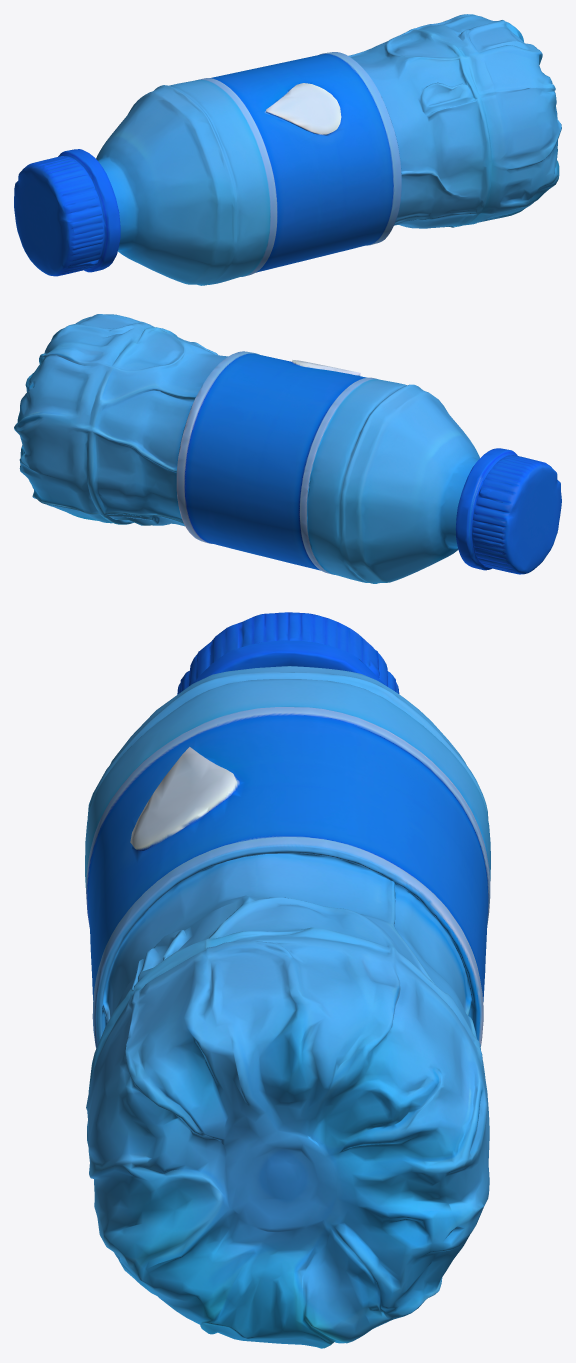
The model's file is waterbottle_v3.glb.
The picture shows the model from 3 angles, top to bottom: view 1: azimuth 30°, elevation 25°; view 2: azimuth 150°, elevation 25°; view 3: azimuth 270°, elevation 25°; orthographic projection. The views are drawn at different scales.
Parts seen in each view (by area): view 1: tripo_node_0863c5a3-f83c-4524-8674-5e0a9de6baa6; view 2: tripo_node_0863c5a3-f83c-4524-8674-5e0a9de6baa6; view 3: tripo_node_0863c5a3-f83c-4524-8674-5e0a9de6baa6.
Boxes of the visible parts, x1,y1,x2,y2 form: tripo_node_0863c5a3-f83c-4524-8674-5e0a9de6baa6: [14, 14, 561, 285]; tripo_node_0863c5a3-f83c-4524-8674-5e0a9de6baa6: [14, 314, 561, 583]; tripo_node_0863c5a3-f83c-4524-8674-5e0a9de6baa6: [85, 612, 490, 1348].
Size of the model in its own units: 0.9816 by 0.3615 by 0.3556.
1 material, 1 textured.
